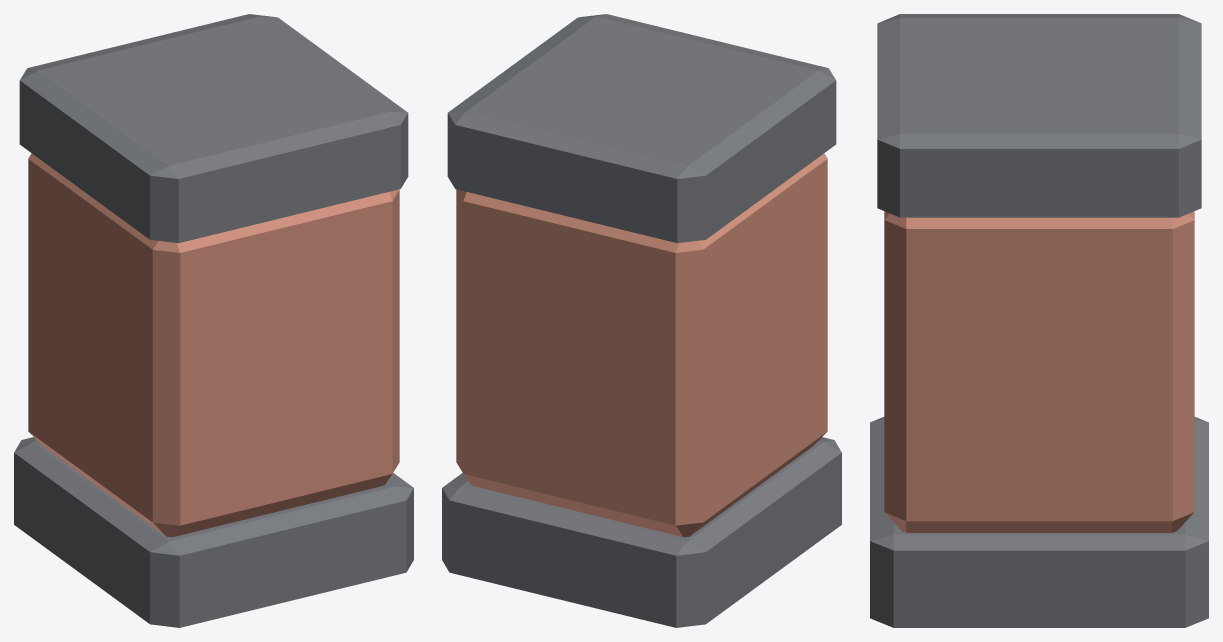
Rendered from b11_terracotta_chiminea.glb.
3 renders of one model, left to right at view 1: azimuth 30°, elevation 25°; view 2: azimuth 150°, elevation 25°; view 3: azimuth 270°, elevation 25°, orthographic. The views are drawn at different scales.
Parts seen in each view (by area): view 1: b11_terracotta_chiminea; view 2: b11_terracotta_chiminea; view 3: b11_terracotta_chiminea.
Part boxes in pixels (x1,y1,x2,y2): b11_terracotta_chiminea: (14, 14, 413, 627); b11_terracotta_chiminea: (442, 14, 841, 627); b11_terracotta_chiminea: (870, 14, 1208, 627).
Size of the model in its own units: 0.72 by 1.19 by 0.748.
